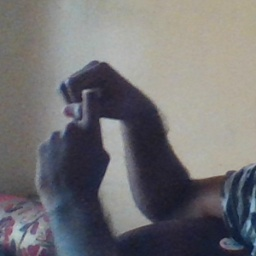Q: (31, 57, 129, 191)
